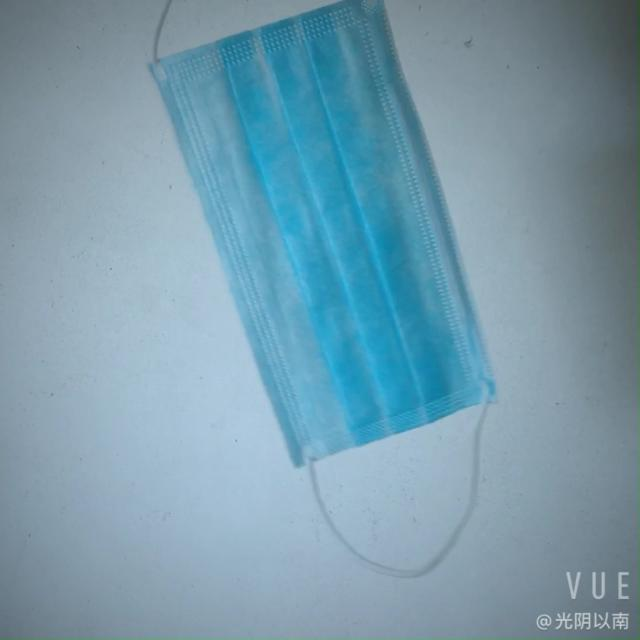non-organic waste: (135, 3, 525, 487)
